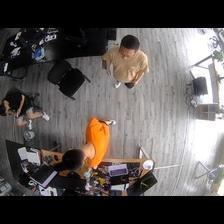normal: (102, 34, 149, 91), (64, 116, 118, 165)
